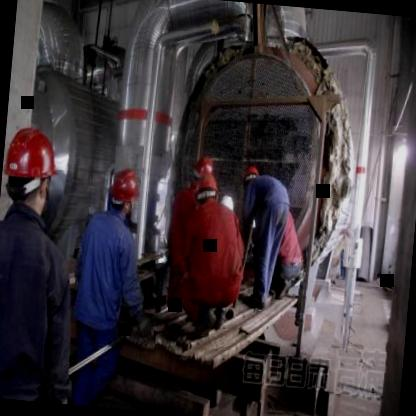helmet: (0, 118, 64, 216), (106, 162, 142, 220), (194, 174, 219, 216), (194, 152, 218, 185), (242, 162, 261, 192)
